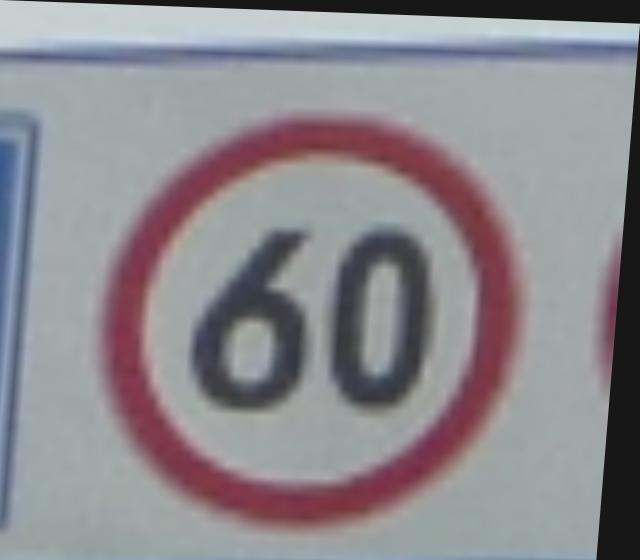limit60: (78, 94, 558, 550)
